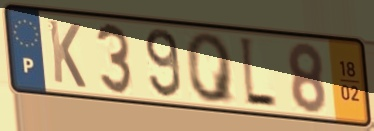3: (95, 21, 133, 97)
8: (285, 40, 329, 116)
9: (143, 27, 183, 101)
K: (46, 17, 89, 92)
L: (237, 33, 279, 112)
Q: (184, 31, 238, 106)
